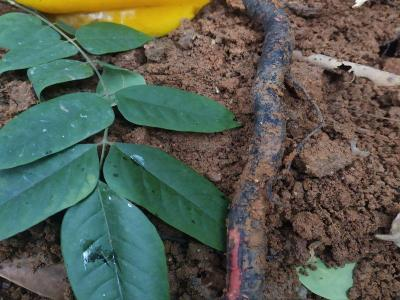Root: (224, 0, 294, 300)
